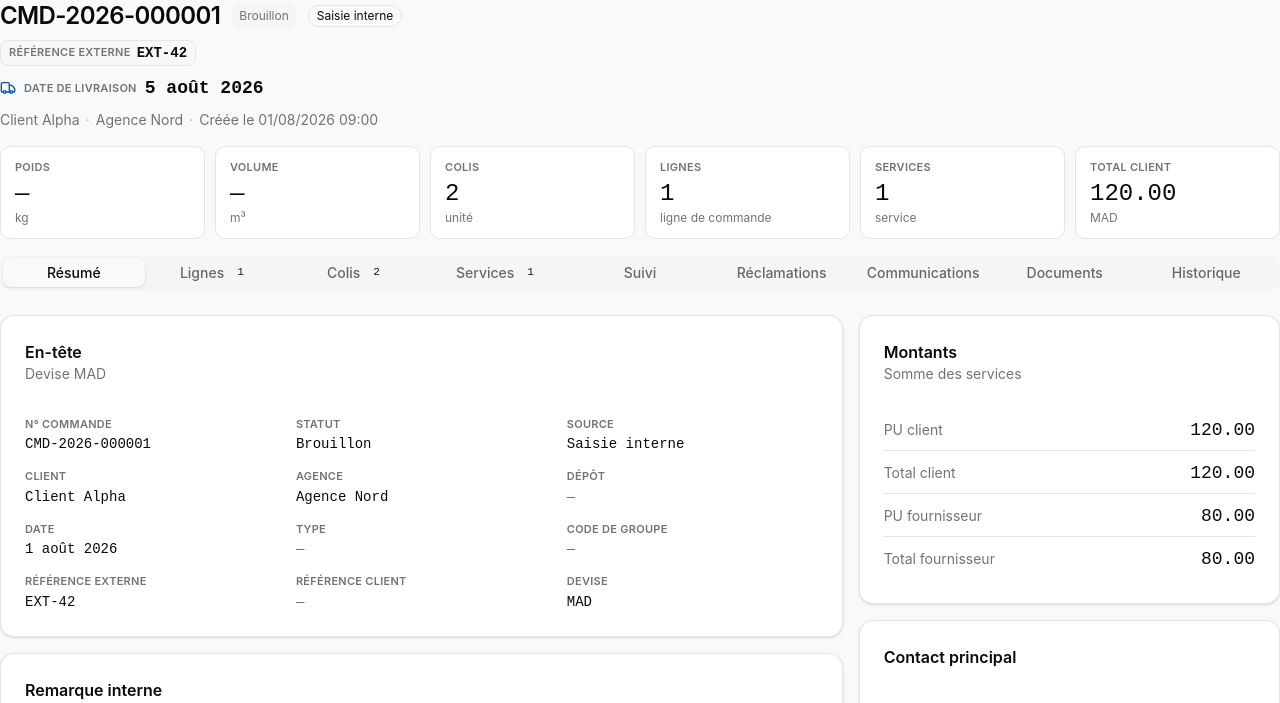
Test: services d’un colis › dit quand aucun service ne prend le colis
Step 1. Click the tab "Colis 2" → (357, 272), box [286,258,428,287]
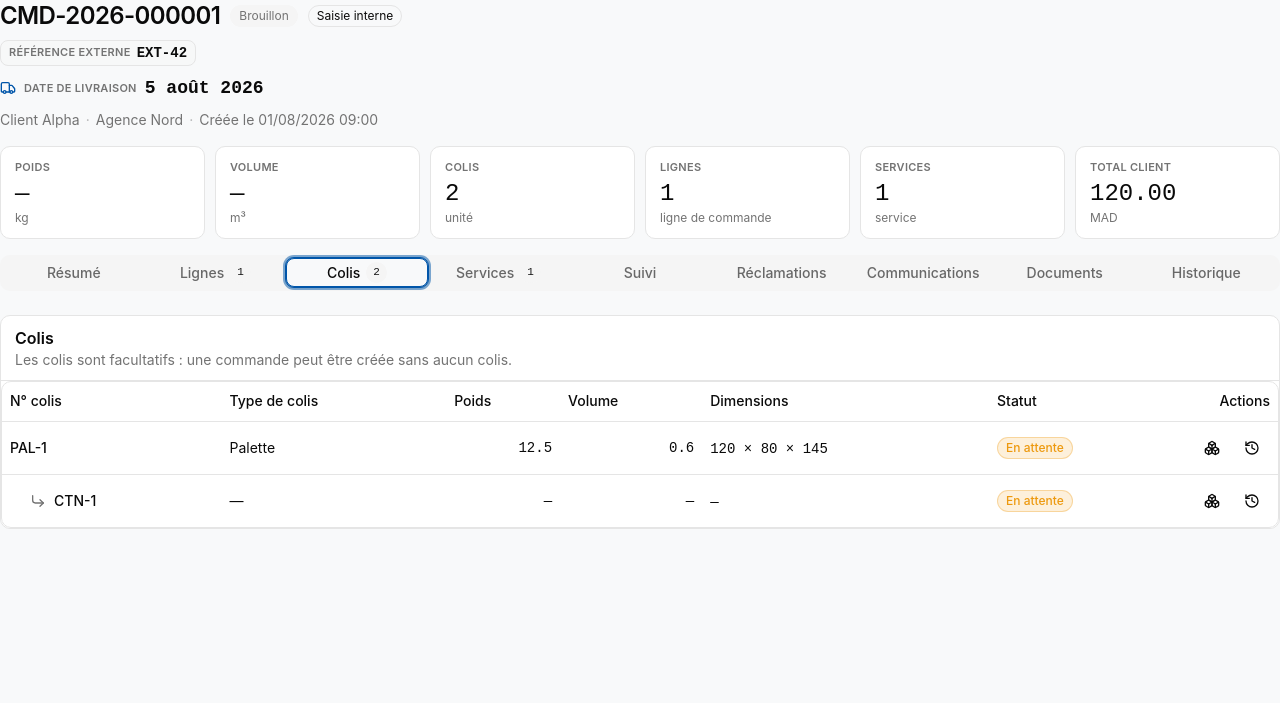
Result: the text "PAL-1" is shown at [10,439,47,456]
Step 2. Click the button named "Contenu du colis" in the row of "CTN-1" → (1212, 501), box [1194,483,1230,519]
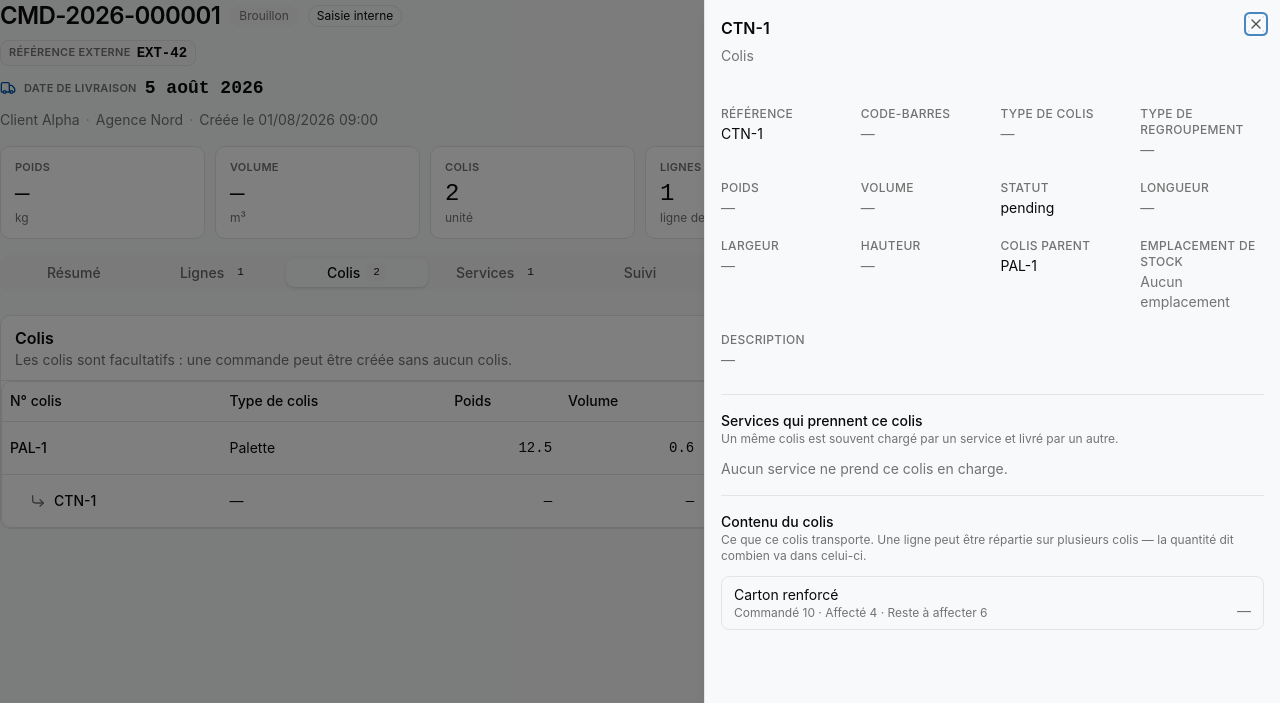
Result: the text "Aucun service ne prend ce colis en charge." is shown at [721,460,1008,477]
